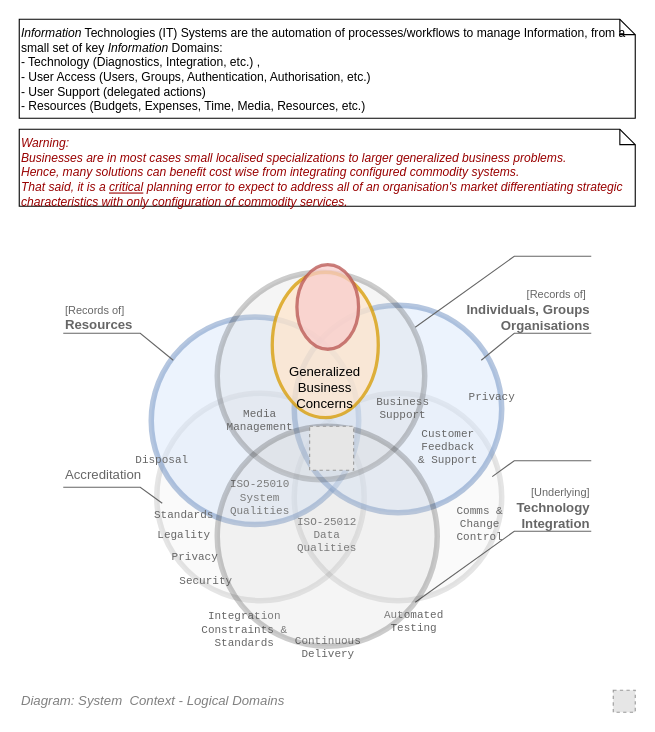
This 655x732 diagram has some shape labels left out. Grey dashed boxes stand in for pictures. Here are the shapes that lost their labels. From the top down, the centre of each, then its label:
At (x=502, y=277): "[Automation of] Processes & Workflows".
At (x=327, y=306): "Custom Business Concerns".
At (x=541, y=454): "Support".
